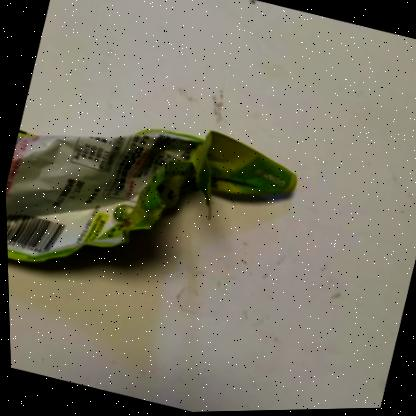Plastic: (4, 130, 293, 262)
